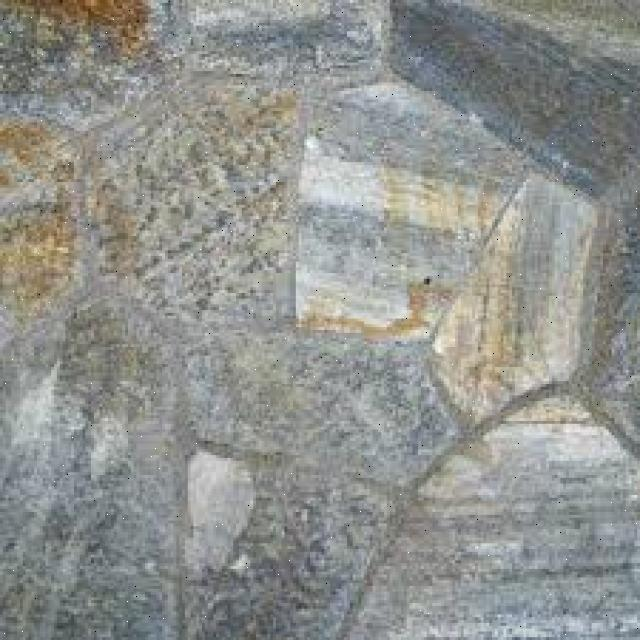Metamorphic: (2, 5, 637, 640)
